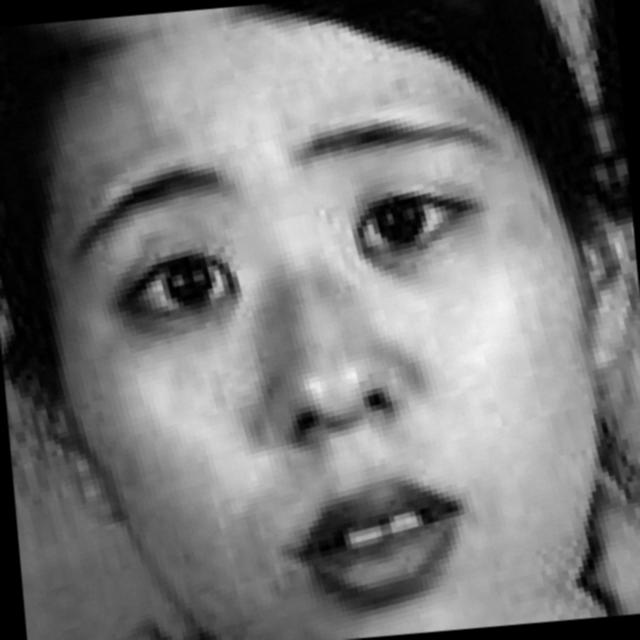fear: (108, 17, 578, 640)
